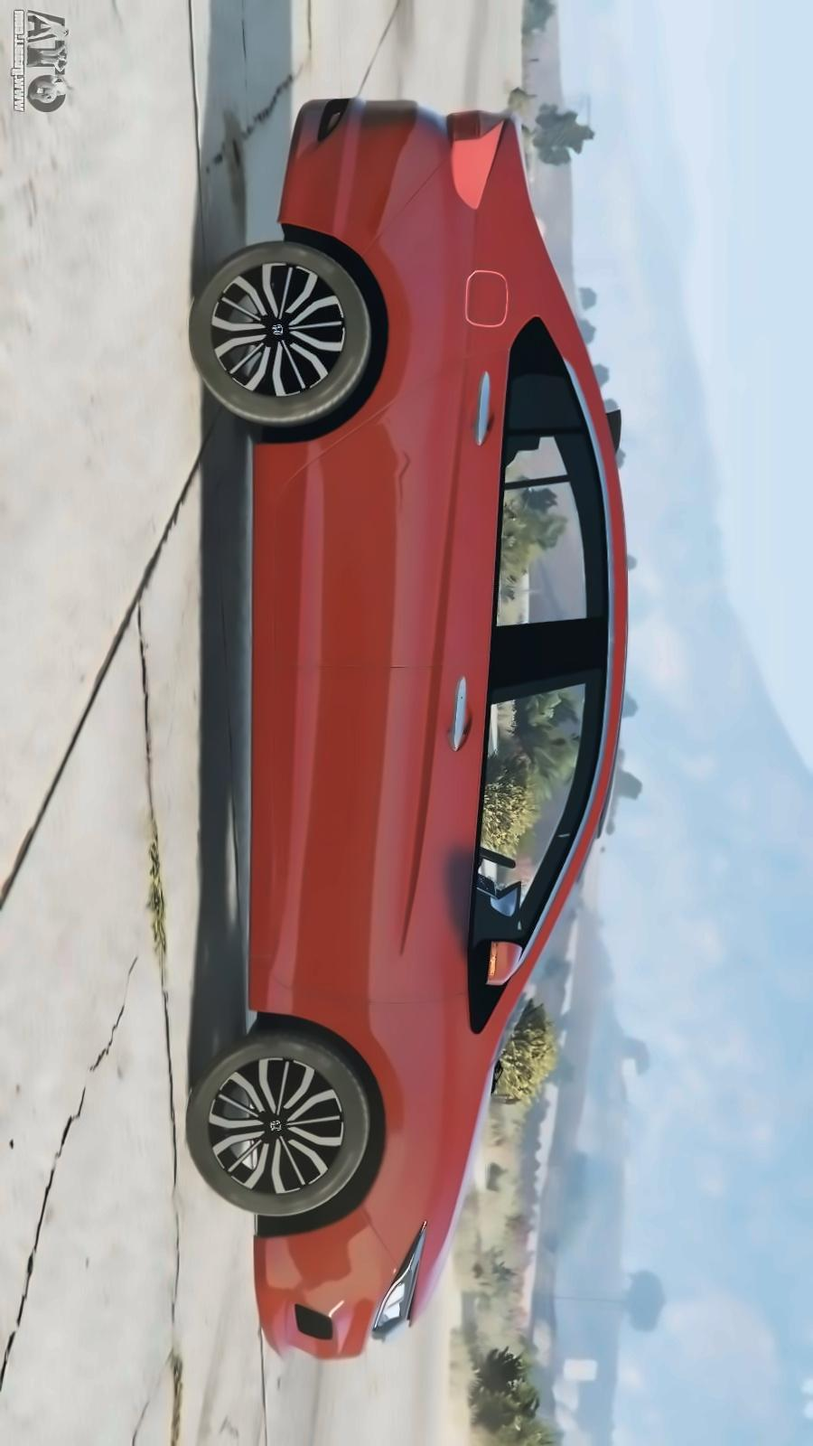Driver-s door - -F-R-: (256, 664, 624, 1003)
Fender - -F-R-: (235, 962, 452, 1276)
Fender - -R-R-: (217, 209, 547, 447)
Front bumper: (247, 1191, 391, 1364)
Headlight - -R-: (355, 1202, 446, 1367)
Passenger-s door - -R-R-: (265, 332, 632, 674)
Rear bumper: (268, 67, 430, 236)
Rear light - -R-: (428, 88, 520, 212)
Side bumper - -R-: (235, 429, 298, 1025)
Side mirror - -R-: (467, 920, 547, 1005)
